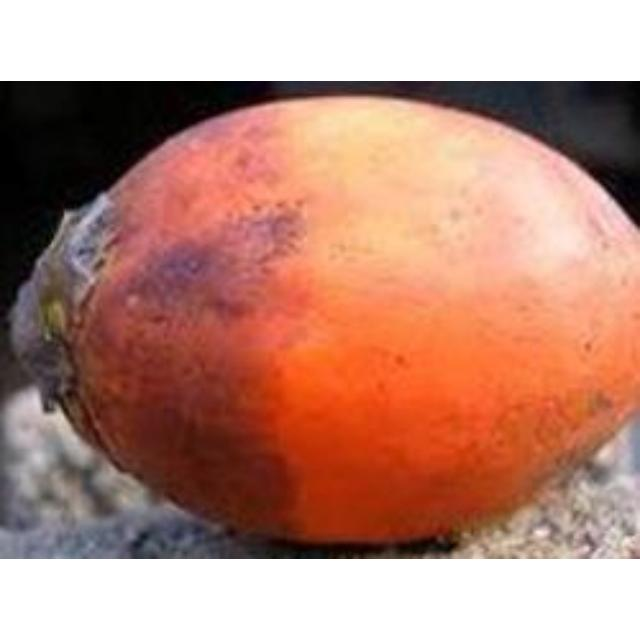good: (8, 96, 637, 555)
